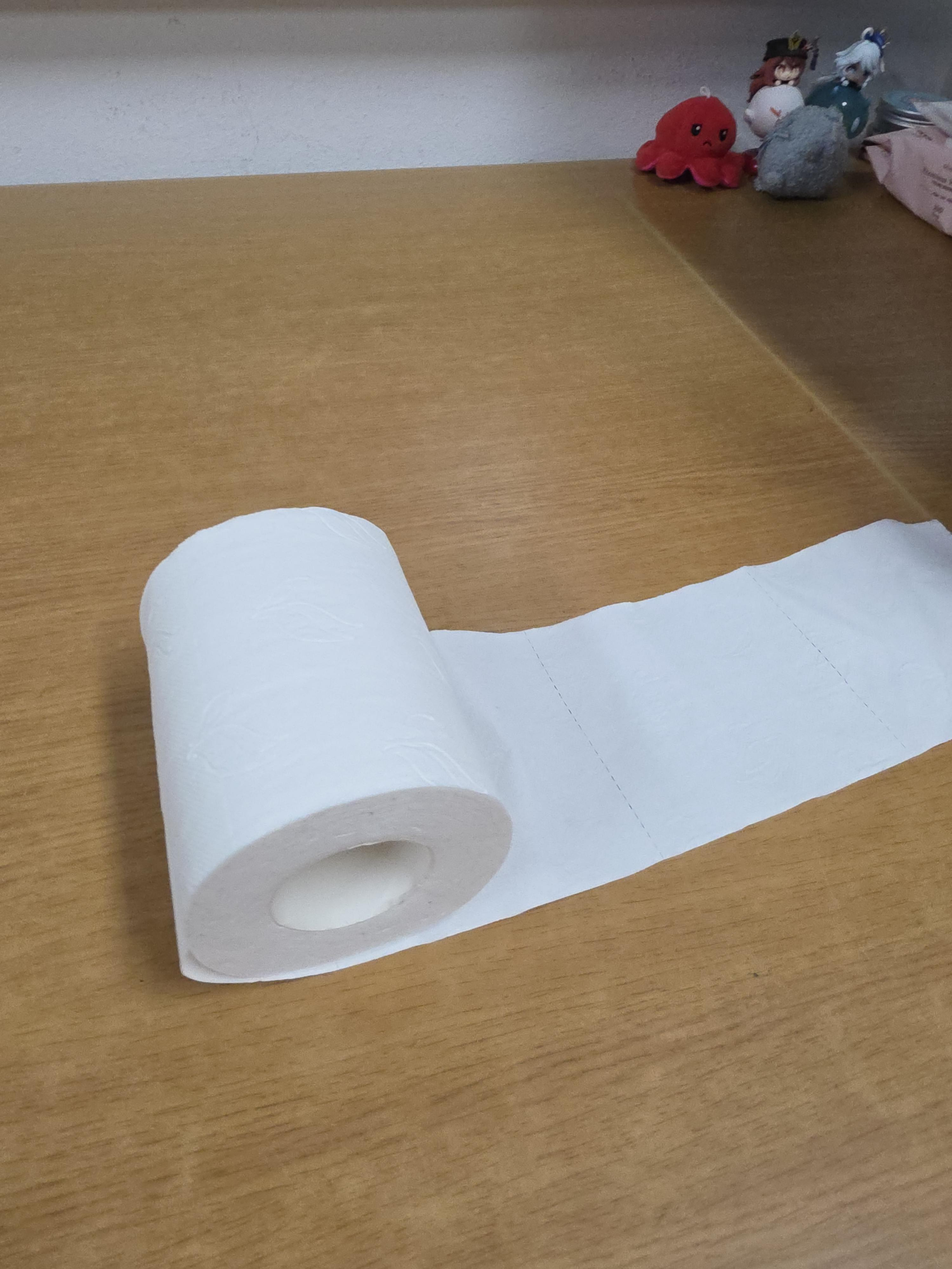tissue: (139, 507, 951, 983)
